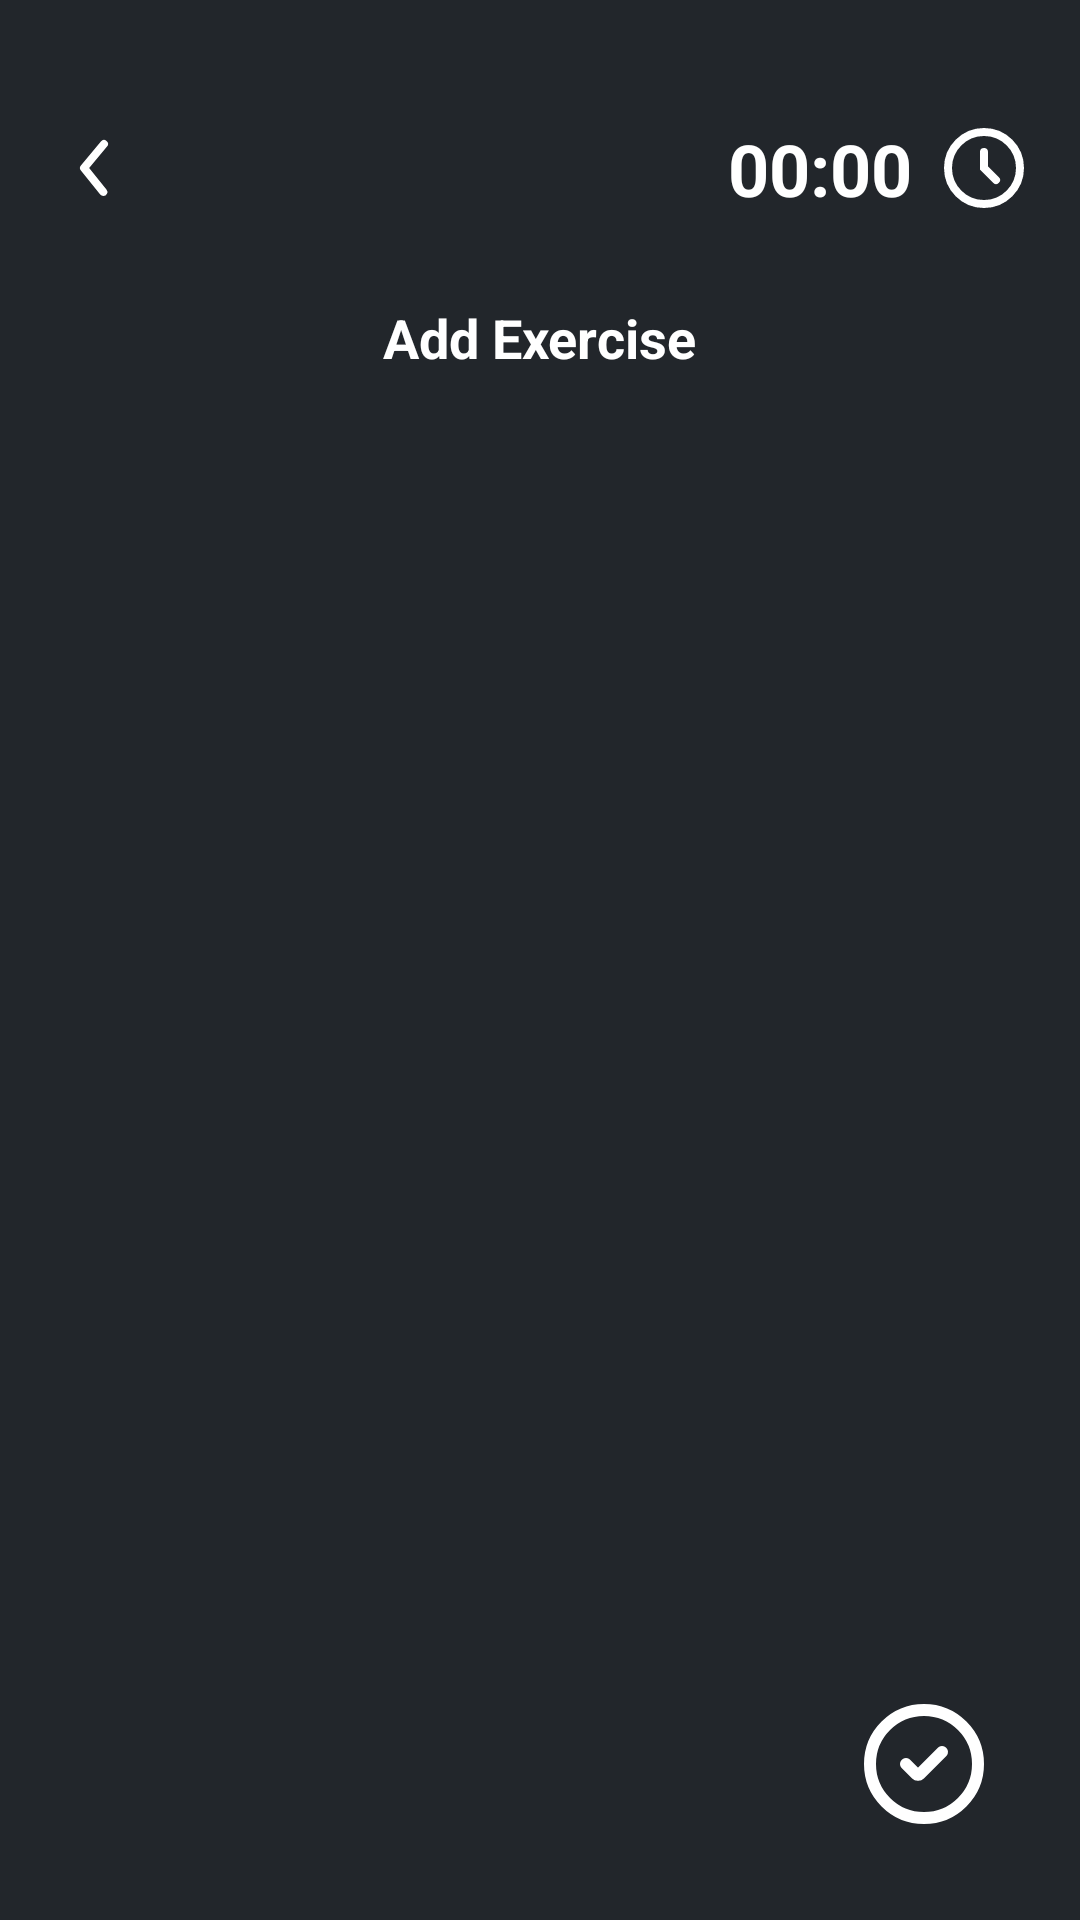

Icon click points for this 1080px×1920px phone screenshot, format (x,y):
Back: (94,167)
Finish Workout: (924,1764)
Time Icon: (984,168)
